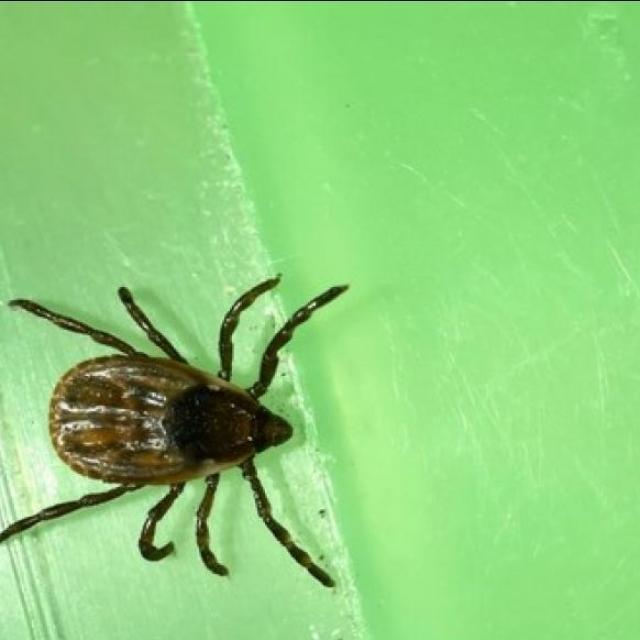Rhipicephalus Sanguineus-F: (0, 275, 349, 588)
